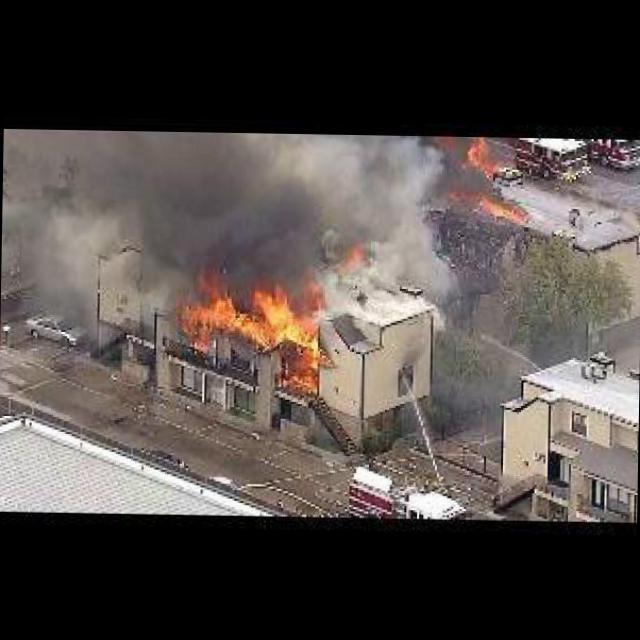fire: (168, 288, 350, 401), (445, 144, 540, 222)
smoke: (98, 132, 456, 296)
